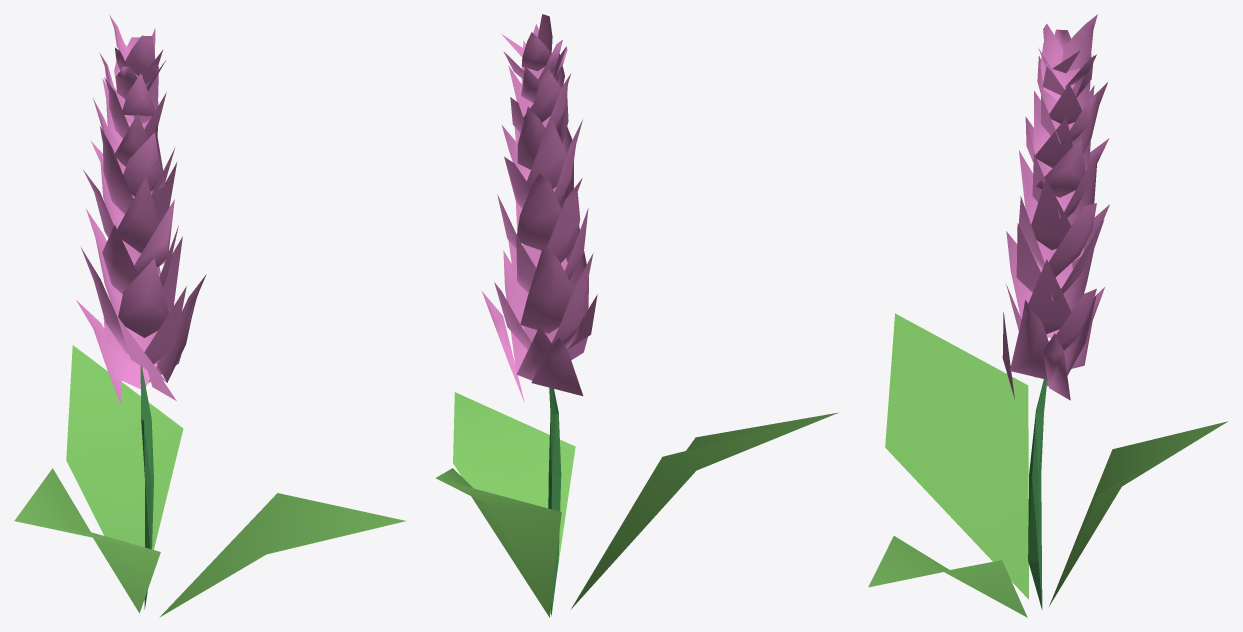
File: fleur 4test.fbx
3 renders of one model, left to right at view 1: azimuth 30°, elevation 25°; view 2: azimuth 150°, elevation 25°; view 3: azimuth 270°, elevation 25°, orthographic. The views are drawn at different scales.
Visible parts, largest first — view 1: Flower.002; view 2: Flower.002; view 3: Flower.002.
Part boxes in pixels (<box>): Flower.002: <box>14,15,405,617</box>; Flower.002: <box>435,14,838,617</box>; Flower.002: <box>868,14,1227,617</box>.
Size of the model in its own units: 215 by 315 by 173.
